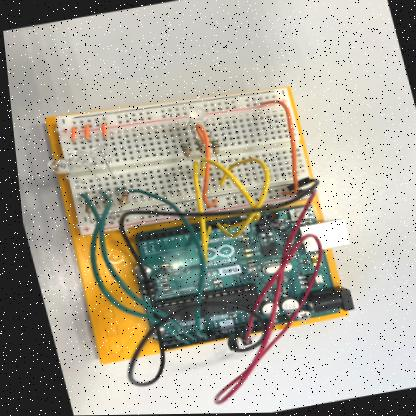5V: (200, 188, 325, 412)
ARDUINO: (125, 202, 334, 351)
Breadboard: (51, 87, 314, 236)
GND: (106, 177, 328, 317), (160, 295, 279, 356), (102, 317, 168, 391)
LED: (184, 106, 203, 124)
Long wire: (101, 182, 217, 345), (76, 191, 189, 347), (91, 186, 198, 344), (207, 154, 272, 243), (188, 151, 257, 231), (258, 100, 294, 195), (187, 122, 218, 214), (183, 156, 208, 268)
Phototransistor: (67, 149, 90, 168), (42, 158, 68, 174), (86, 144, 109, 162), (102, 162, 108, 175)
Resistor: (114, 188, 124, 214), (176, 142, 189, 162), (207, 139, 216, 161), (191, 139, 202, 156), (80, 196, 89, 214), (98, 192, 107, 209)
Short wire: (98, 122, 103, 137), (67, 126, 72, 141), (81, 124, 85, 141)
